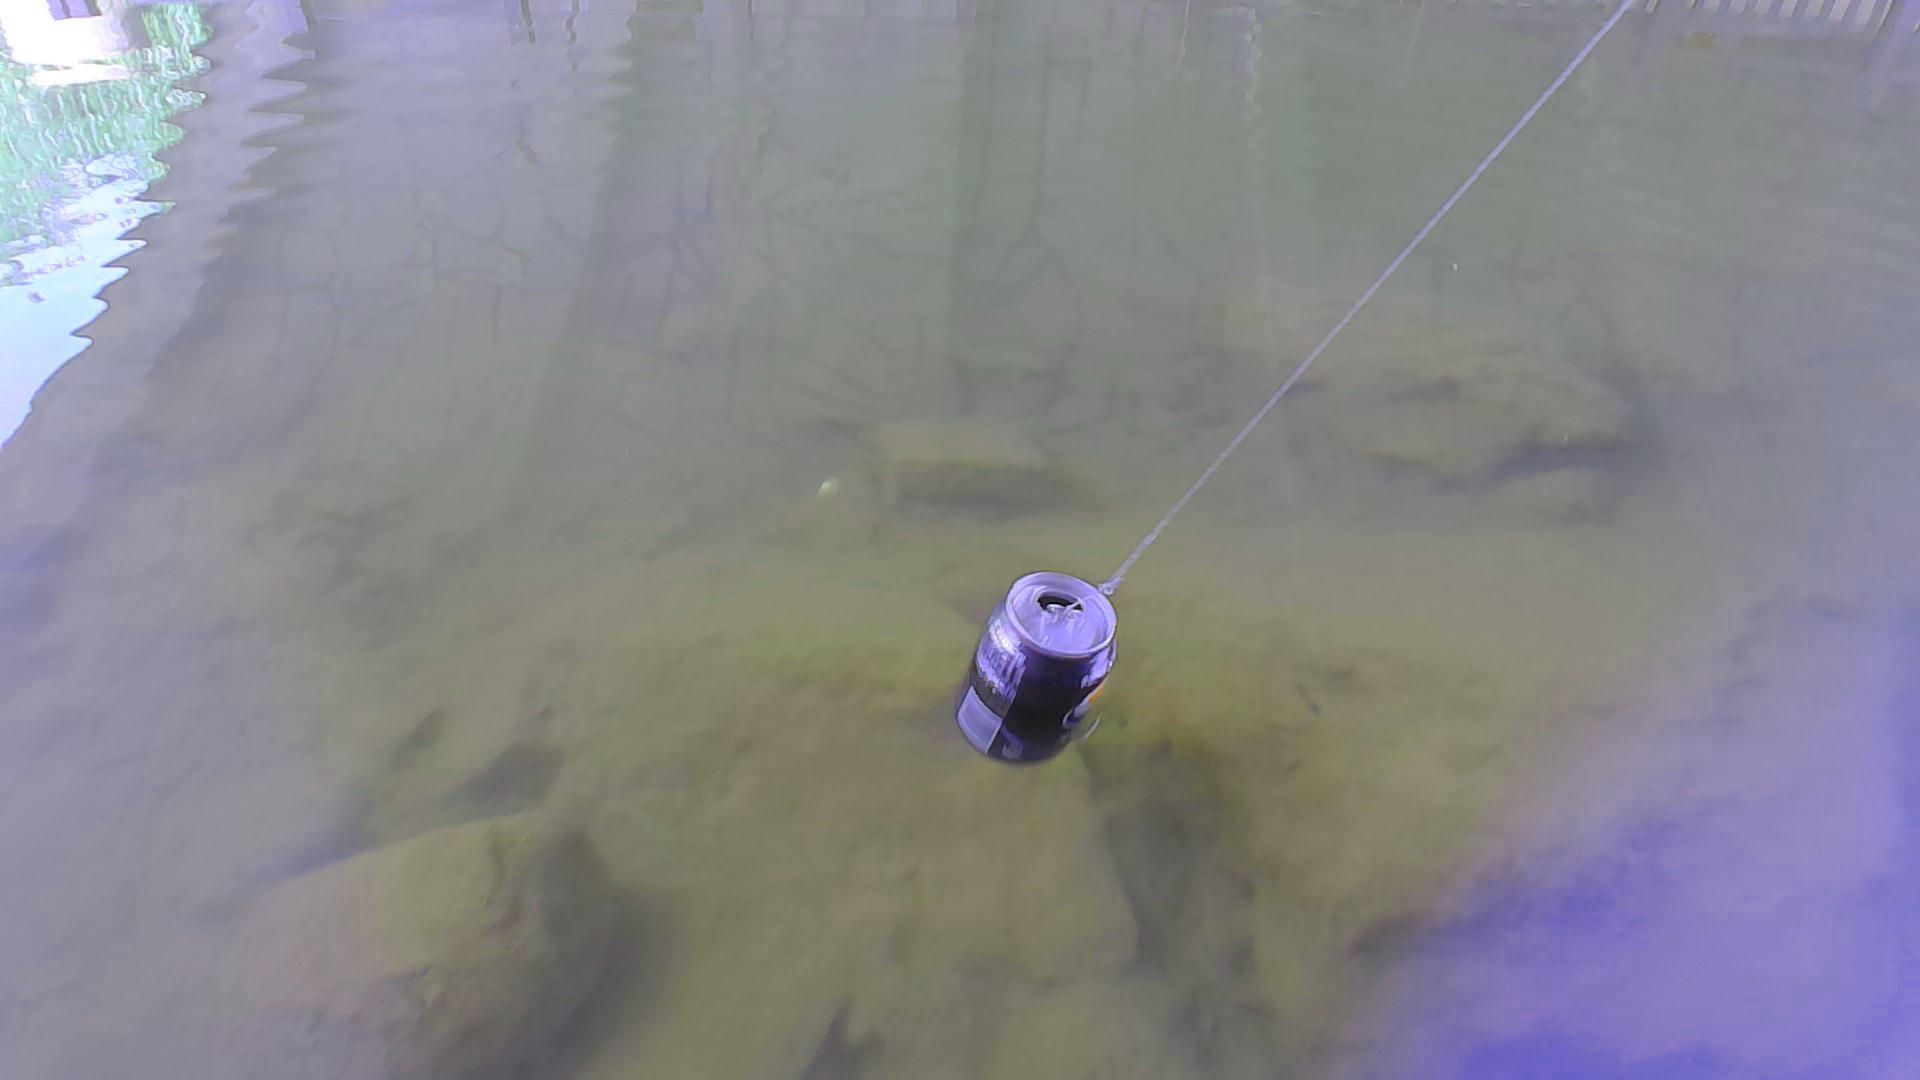Metal: (948, 568, 1124, 764)
